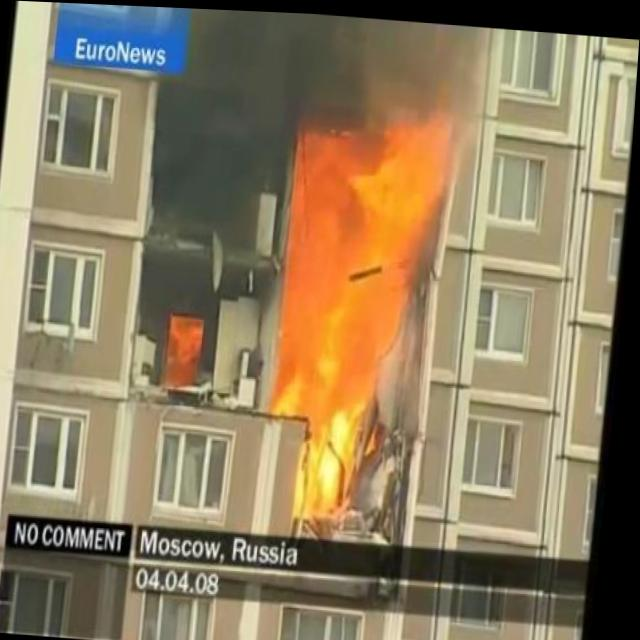fire: (266, 104, 448, 525), (170, 310, 211, 389)
